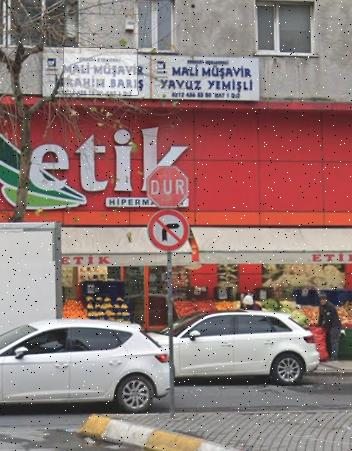rightturnsareforbidden: (149, 209, 188, 252)
stop: (146, 166, 189, 207)
